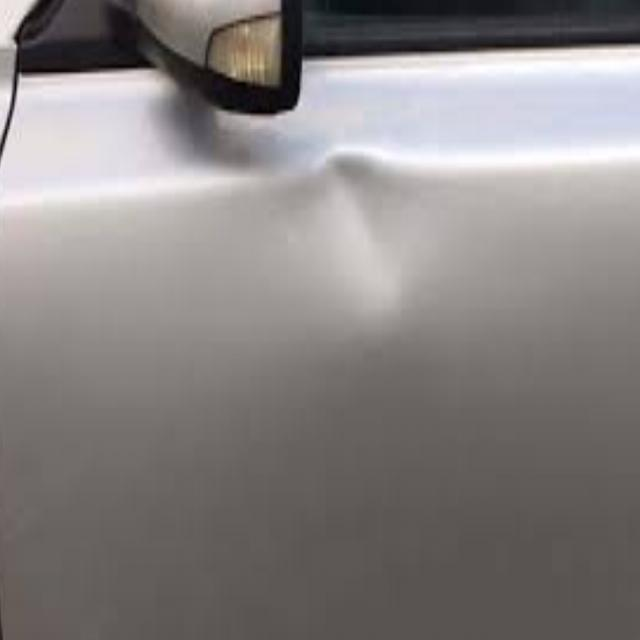dents: (294, 138, 427, 338)
